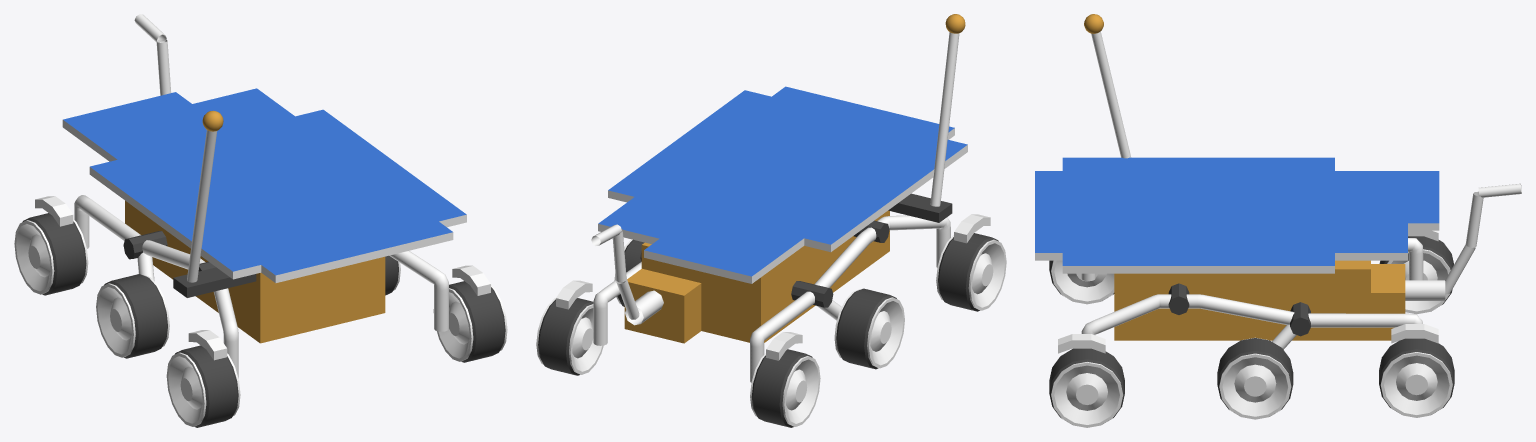
File: m_Dev_Widget.fbx
3 views of the same model, side by side, from view 1: azimuth 30°, elevation 25°; view 2: azimuth 150°, elevation 25°; view 3: azimuth 270°, elevation 25° (orthographic). The views are drawn at different scales.
Parts seen in each view (by area): view 1: Widget; view 2: Widget; view 3: Widget.
Part boxes in pixels (x1,y1,x2,y2): Widget: [14, 14, 507, 427]; Widget: [536, 14, 1006, 427]; Widget: [1035, 14, 1521, 427].
Size of the model in its own units: 23.2 by 22.26 by 34.03.
